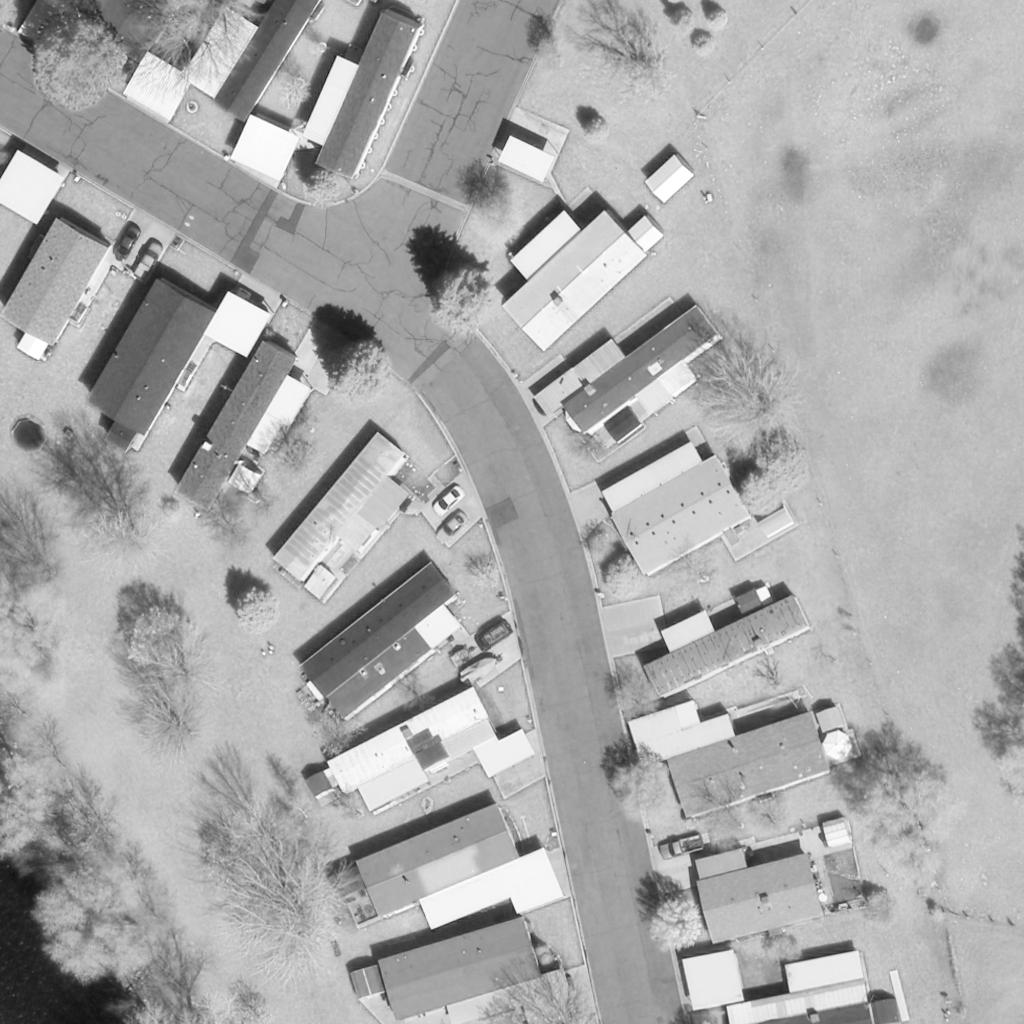vehicle: (458, 654, 504, 688), (433, 509, 471, 545), (135, 243, 165, 281), (429, 488, 467, 516), (478, 623, 516, 651), (657, 837, 707, 857), (116, 228, 140, 260)
